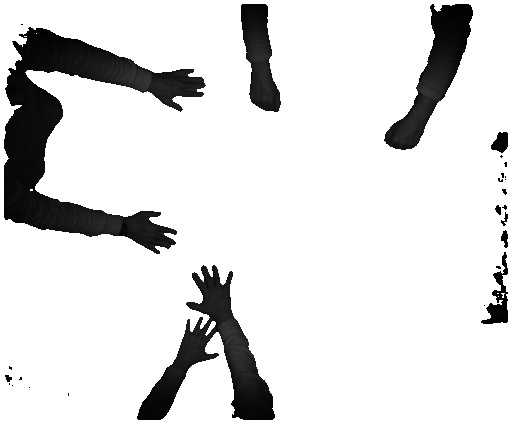fist: (384, 114, 428, 151), (248, 77, 287, 111)
hand: (184, 266, 238, 320), (126, 208, 183, 255), (154, 67, 207, 111), (176, 318, 222, 364)
